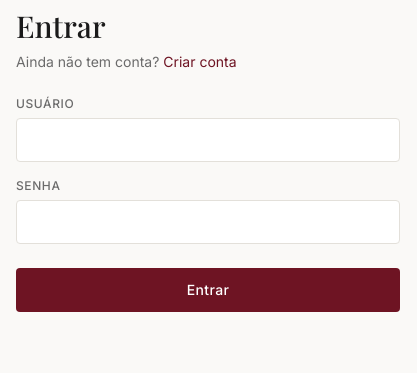
Login › valida os campos obrigatorios antes de enviar
Click the button "Entrar": (208, 290) [16,268,400,312]
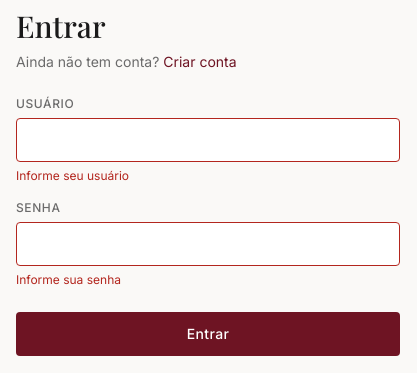
Expected: the text "Informe seu usuário" is shown, [16,168,129,183]
Expected: the text "Informe sua senha" is shown, [16,272,121,287]
